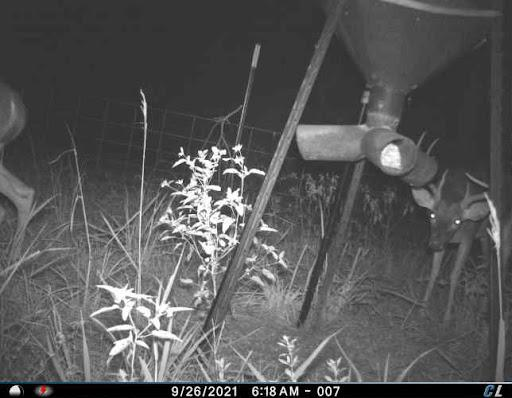Deer: (398, 123, 512, 328), (0, 73, 38, 264)
